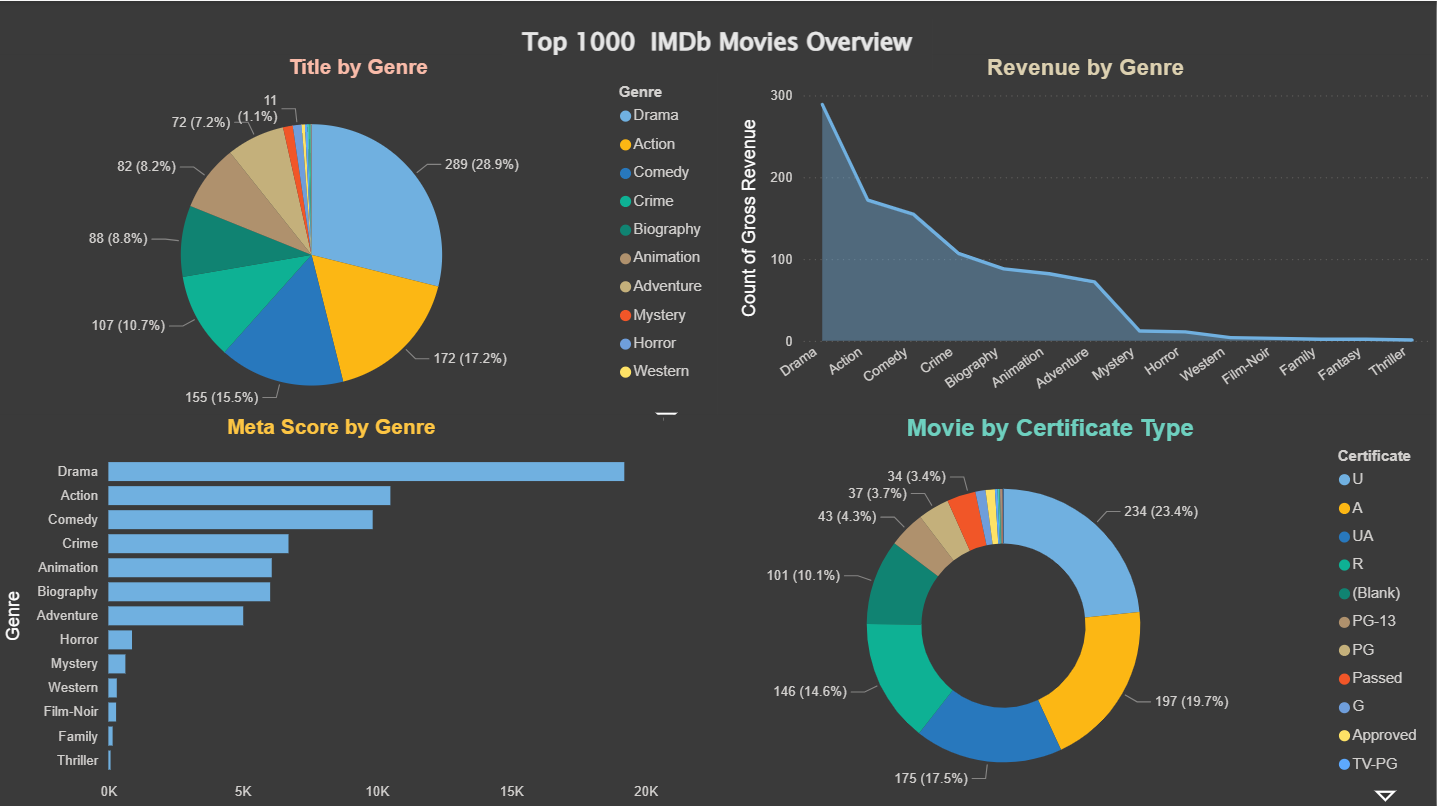

Layout of this report page (visuals, bound fields, positions):
{"tool":"powerbi","page":{"name":"Overview","canvas":[1280,720],"ordinal":0},"visuals":[{"type":"pieChart","title":"Title by Genre ","fields":{"Category":["current.Genre "],"Y":["CountNonNull(current.Title)"]},"box":[0,48,640,336],"z":0},{"type":"donutChart","title":"Movie by Certificate Type","fields":{"Category":["current.Certificate"],"Y":["CountNonNull(current.Title)"]},"box":[592,368,688,352],"z":1000},{"type":"clusteredBarChart","title":" Meta Score by Genre","fields":{"Category":["current.Genre "],"Y":["Sum(current.Meta_score)"]},"box":[0,368,592,352],"z":2000},{"type":"stackedAreaChart","title":"Revenue by Genre ","fields":{"Category":["current.Genre "],"Y":["CountNonNull(current.Gross Revenue)"]},"box":[656,48,624,320],"z":3000},{"type":"textbox","box":[448,16,384,48],"z":4000}]}

Visuals, with their boxes in screenshot pixels (x1, y1, x2, y2), scaled from the page's 1280x720 canvas onto the 1437x806 screenshot:
"Title by Genre " pieChart: [x1=0, y1=54, x2=718, y2=430]
"Movie by Certificate Type" donutChart: [x1=665, y1=412, x2=1436, y2=805]
" Meta Score by Genre" clusteredBarChart: [x1=0, y1=412, x2=665, y2=805]
"Revenue by Genre " stackedAreaChart: [x1=736, y1=54, x2=1436, y2=412]
textbox: [x1=503, y1=18, x2=934, y2=72]
